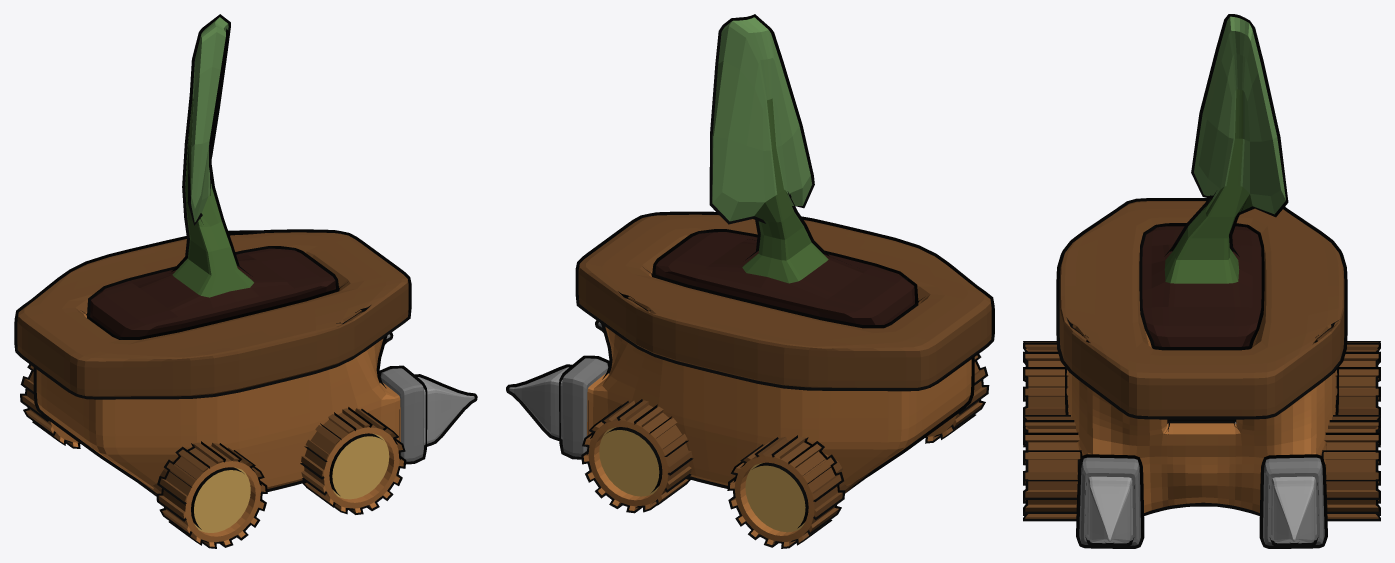
Rendered from Basic_Enemy.fbx.
The picture shows the model from 3 angles, left to right: view 1: azimuth 30°, elevation 25°; view 2: azimuth 150°, elevation 25°; view 3: azimuth 270°, elevation 25°; orthographic projection. The views are drawn at different scales.
Visible parts, largest first — view 1: Kart, Wheels.001, Wheels; view 2: Kart, Wheels.001, Wheels; view 3: Kart, Wheels, Wheels.001.
Part boxes in pixels (x1,y1,x2,y2): Kart: (14,14,477,493); Wheels.001: (20,364,267,548); Wheels: (300,407,406,514); Kart: (506,14,994,488); Wheels.001: (727,354,989,548); Wheels: (581,399,693,513); Kart: (1056,14,1347,548); Wheels: (1023,415,1380,521); Wheels.001: (1023,341,1380,447).
Size of the model in its own units: 320 by 442 by 468.
